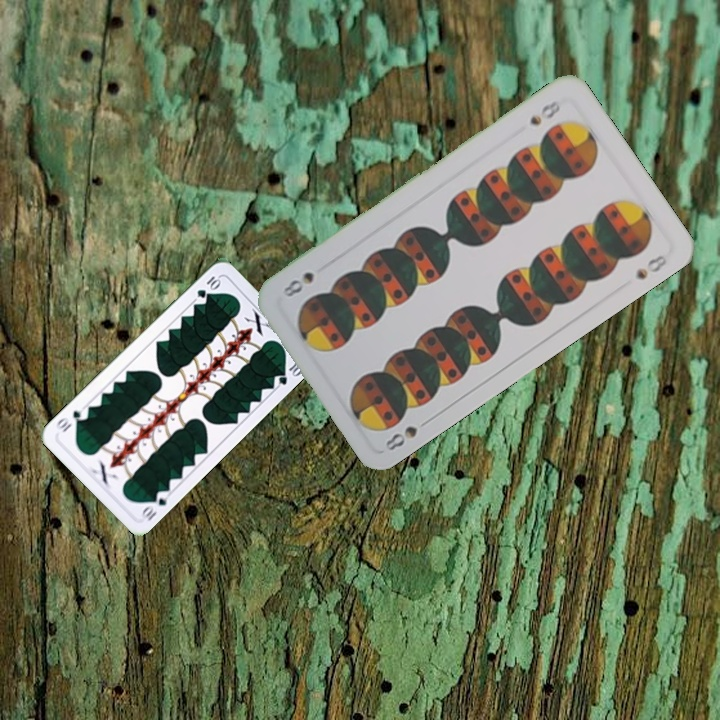G10: (137, 486, 172, 524), (193, 272, 223, 301)
S8: (381, 414, 434, 454), (526, 96, 566, 128)
